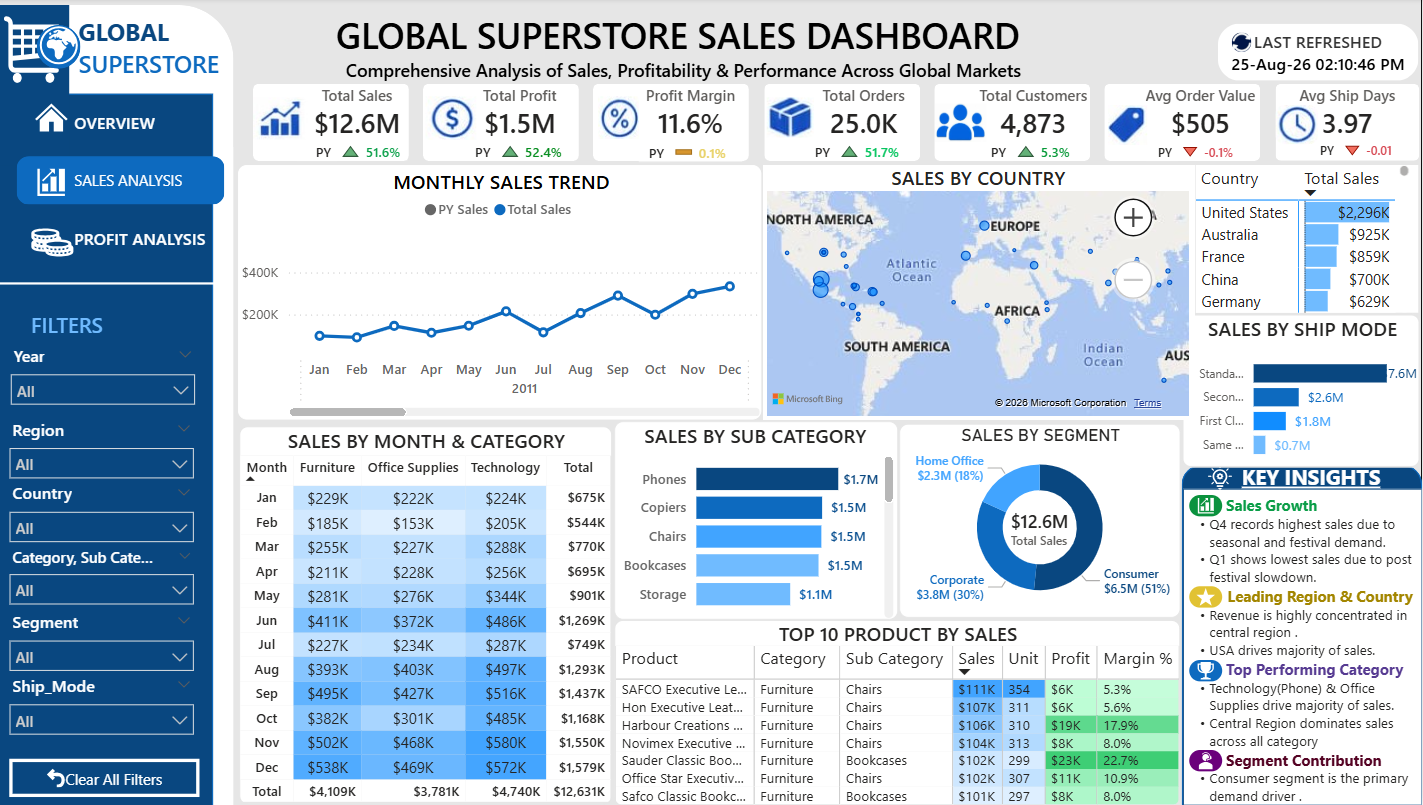

The page's visual inventory and layout, read from the dashboard file:
{"tool":"powerbi","page":{"name":"SALES ANALYSIS","canvas":[1280,720],"ordinal":1},"visuals":[{"type":"shape","box":[1064,413,216,313],"z":0},{"type":"actionButton","box":[10.2,676.1,171,34.4],"z":1000},{"type":"textbox","title":"---KEY INSIGHTS","box":[1065,435,215.3,285],"z":2000},{"type":"slicer","fields":{"Values":["Dim_Product.Category","Dim_Product.Sub_Category"]},"box":[0,479.5,185.9,60],"z":3000},{"type":"actionButton","box":[25.6,678,152.2,34.4],"z":4000},{"type":"slicer","fields":{"Values":["Dim_Geography.Region"]},"box":[0,364.5,185.9,60],"z":5000},{"type":"image","box":[1071.1,441,29.5,19.3],"z":6000},{"type":"slicer","fields":{"Values":["Dim_Ship.Ship_Mode"]},"box":[0,594.5,185.9,60],"z":7000},{"type":"slicer","fields":{"Values":["Dim_Customer.Segment"]},"box":[0,537,185.9,60],"z":8000},{"type":"image","box":[1071.1,523,29.5,19.3],"z":9000},{"type":"slicer","fields":{"Values":["Dim_Geography.Country"]},"box":[0,422,185.9,60],"z":10000},{"type":"slicer","fields":{"Values":["Dim_Product.Category","Dim_Product.Sub_Category"]},"box":[16.7,479,161.2,60],"z":11000},{"type":"slicer","fields":{"Values":["Dim_Date.Year"]},"box":[1.3,298,185.7,60],"z":12000},{"type":"image","box":[1071.1,589,29.5,19.3],"z":13000},{"type":"image","box":[1071.1,670,29.5,19.3],"z":14000},{"type":"slicer","fields":{"Values":["Dim_Geography.Region"]},"box":[16.7,364,161.2,60],"z":15000},{"type":"textbox","box":[1117.8,411.1,154.2,41.5],"z":16000},{"type":"shape","box":[35,18,39,39],"z":17000},{"type":"image","box":[1079,412,40,25],"z":18000},{"type":"slicer","fields":{"Values":["Dim_Ship.Ship_Mode"]},"box":[16.7,594,161.2,60],"z":19000},{"type":"slicer","fields":{"Values":["Dim_Customer.Segment"]},"box":[16.7,536.5,161.2,60],"z":20000},{"type":"shape","box":[246,103,36,29.1],"z":21000},{"type":"slicer","fields":{"Values":["Dim_Geography.Country"]},"box":[16.7,421.5,161.2,60],"z":22000},{"type":"image","box":[31.4,15.7,46,44],"z":23000},{"type":"shape","box":[382.2,71,140.2,69.4],"z":24000},{"type":"shape","box":[229,71,140.2,69.4],"z":25000},{"type":"shape","box":[570,100.2,36.8,34.5],"z":26000},{"type":"tableEx","fields":{"Values":["Temp_Table.Column1","_Measures.YoY Profit Growth %"]},"box":[422.6,101,92.7,40.7],"z":27000},{"type":"shape","box":[735,101,38,33.4],"z":28000},{"type":"shape","box":[535.3,71,140.2,69.4],"z":29000},{"type":"shape","box":[892.7,103.3,38.3,31.8],"z":30000},{"type":"shape","box":[688.5,71,140.2,69.4],"z":31000},{"type":"shape","box":[1055.3,105,39.5,34],"z":32000},{"type":"shape","box":[1148,71,129.2,69.2],"z":33000},{"type":"shape","box":[841.7,71,140.2,69.4],"z":34000},{"type":"tableEx","fields":{"Values":["Temp_Table.Column1","_Measures.YoY Sales Growth %"]},"box":[268.1,100.9,108.1,38.9],"z":35000},{"type":"shape","box":[994.8,71,140.2,69.4],"z":36000},{"type":"textbox","box":[572.1,95,39.9,46],"z":37000},{"type":"tableEx","fields":{"Values":["Temp_Table.Column1","_Measures.YoY AVG Ship Days"]},"box":[1176,100,90,39.2],"z":38000},{"type":"image","box":[734,101.4,39,31],"z":39000},{"type":"tableEx","fields":{"Values":["Temp_Table.Column1","_Measures.YoY Profit Margin"]},"box":[575,102,94.7,39.3],"z":40000},{"type":"image","box":[887,100,51,40],"z":41000},{"type":"tableEx","fields":{"Values":["Temp_Table.Column1","_Measures.YoY Orders"]},"box":[726,101,96,38.7],"z":42000},{"type":"image","box":[1053,106,45,31],"z":43000},{"type":"tableEx","fields":{"Values":["Temp_Table.Column1","_Measures.YoY Customers"]},"box":[882,101,100,39],"z":44000},{"type":"tableEx","fields":{"Values":["Temp_Table.Column1","_Measures.YoY AVG Order Value"]},"box":[1032,101,95,39.3],"z":45000},{"type":"shape","box":[15.7,0,196,847.1],"z":46000},{"type":"cardVisual","fields":{"Data":["_Measures.Total Sales"]},"box":[269.7,68,106,56.7],"z":47000},{"type":"shape","box":[0,80,193.3,767.8],"z":48000},{"type":"cardVisual","fields":{"Data":["_Measures.Average Ship Days"]},"box":[1155.6,68,113.1,56.9],"z":49000},{"type":"cardVisual","fields":{"Data":["_Measures.Profit Margin %"]},"box":[567,68,111,56.8],"z":50000},{"type":"textbox","box":[25,270.2,152.9,37.5],"z":51000},{"type":"cardVisual","fields":{"Data":["_Measures.Total Orders"]},"box":[728,68,100.7,56.7],"z":52000},{"type":"cardVisual","fields":{"Data":["_Measures.Total Customers"]},"box":[868,68,124,56.7],"z":53000},{"type":"cardVisual","fields":{"Data":["_Measures.Average Order Value"]},"box":[1016,68,130.7,56.7],"z":54000},{"type":"cardVisual","fields":{"Data":["_Measures.Total Profit"]},"box":[410,68,118.8,56.8],"z":55000},{"type":"image","box":[229.7,83.1,48.7,37.4],"z":56000},{"type":"image","box":[384,82.4,45.9,38.9],"z":57000},{"type":"image","box":[539,82.5,37.1,38.7],"z":58000},{"type":"image","box":[691,83.7,42,36],"z":59000},{"type":"image","box":[843,88.5,45.2,34.3],"z":60000},{"type":"image","box":[998,90,35.5,36],"z":61000},{"type":"image","box":[1148,90,38.5,35],"z":62000},{"type":"shape","box":[0,0,64,144],"z":63000},{"type":"image","box":[0,0,64.3,80],"z":64000},{"type":"textbox","box":[299,0,646,80],"z":65000},{"type":"textbox","box":[67,5,148.7,80],"z":66000},{"type":"shape","box":[16.7,135.6,186.7,43.3],"z":67000},{"type":"pageNavigator","box":[69,84.4,167.8,148.9],"z":68000},{"type":"image","box":[0,196.7,95.6,33.3],"z":69000},{"type":"image","box":[0,84.4,95.6,33.3],"z":70000},{"type":"image","box":[0,142.2,95.6,33.3],"z":71000},{"type":"shape","box":[0,246.5,194.4,8.5],"z":72000},{"type":"pageNavigator","box":[0,83.6,194.5,149.1],"z":73000},{"type":"lineChart","title":"MONTHLY SALES TREND","fields":{"Category":["Dim_Date.Order_Date.Variation.Date Hierarchy.Year","Dim_Date.Month"],"Y":["_Measures.PY Sales","_Measures.Total Sales"]},"box":[216,144,470,229],"z":74000},{"type":"pivotTable","title":"SALES BY MONTH & CATEGORY","fields":{"Values":["_Measures.Total Sales"],"Columns":["Dim_Product.Category"],"Rows":["Dim_Date.Month"]},"box":[217,379,335,340],"z":75000},{"type":"clusteredBarChart","title":"SALES BY SUB CATEGORY","fields":{"Y":["Sum(Fact_Sales.Sales)"],"Category":["Dim_Product.Sub_Category"]},"box":[554,374,255,178],"z":76000},{"type":"tableEx","title":"TOP 10 PRODUCT BY SALES ","fields":{"Values":["Dim_Product.Product_Name","Dim_Product.Category","Dim_Product.Sub_Category","_Measures.Total Sales","_Measures.Total Quantity","_Measures.Total Profit","_Measures.Profit Margin %"]},"box":[554,553,509,167],"z":77000},{"type":"donutChart","title":"SALES BY SEGMENT","fields":{"Y":["_Measures.Total Sales"],"Category":["Dim_Customer.Segment"]},"box":[810,376,253,174],"z":78000},{"type":"clusteredBarChart","title":"SALES BY SHIP MODE","fields":{"Category":["Dim_Ship.Ship_Mode"],"Y":["_Measures.Total Sales"]},"box":[1064,277,214,138],"z":79000},{"type":"cardVisual","fields":{"Data":["_Measures.Total Sales"]},"box":[893,434,96,73],"z":80000},{"type":"actionButton","box":[10.2,678.1,171,34.4],"z":81000},{"type":"slicer","fields":{"Values":["Dim_Product.Category","Dim_Product.Sub_Category"]},"box":[0,481.5,185.9,60],"z":82000},{"type":"slicer","fields":{"Values":["Dim_Geography.Region"]},"box":[0,366.5,185.9,60],"z":83000},{"type":"slicer","fields":{"Values":["Dim_Ship.Ship_Mode"]},"box":[0,596.5,185.9,60],"z":84000},{"type":"slicer","fields":{"Values":["Dim_Customer.Segment"]},"box":[0,539,185.9,60],"z":85000},{"type":"slicer","fields":{"Values":["Dim_Geography.Country"]},"box":[0,424,185.9,60],"z":86000},{"type":"slicer","fields":{"Values":["Dim_Date.Year"]},"box":[1.3,300,185.7,60],"z":87000},{"type":"map","title":"SALES BY COUNTRY","fields":{"Category":["Dim_Geography.Country"],"Size":["_Measures.Total Sales"]},"box":[688,144,388,229],"z":88000},{"type":"pivotTable","title":"SALES BY MONTH & CATEGORY","fields":{"Values":["_Measures.Total Sales"],"Rows":["Dim_Geography.Country"]},"box":[1076,144,200,133],"z":89000},{"type":"shape","box":[35,17.9,39.3,39.3],"z":90000},{"type":"image","box":[31.7,15,46.1,43.2],"z":91000},{"type":"cardVisual","fields":{"Data":["Max(Last Refresh.Last Refresh)"]},"box":[1096.7,16.7,184,51.1],"z":92000},{"type":"image","box":[1108.9,24.4,17.8,17.8],"z":93000}]}

Visuals, with their boxes in screenshot pixels (x1, y1, x2, y2), scaled from the page's 1280x720 canvas onto the 1423x805 screenshot:
shape: pyautogui.locateOnScreen(1183, 462, 1422, 804)
actionButton: pyautogui.locateOnScreen(11, 756, 201, 794)
"---KEY INSIGHTS" textbox: pyautogui.locateOnScreen(1184, 486, 1422, 804)
slicer - Dim_Product.Category x Dim_Product.Sub_Category: pyautogui.locateOnScreen(0, 536, 207, 603)
actionButton: pyautogui.locateOnScreen(28, 758, 198, 797)
slicer - Dim_Geography.Region: pyautogui.locateOnScreen(0, 408, 207, 475)
image: pyautogui.locateOnScreen(1191, 493, 1224, 515)
slicer - Dim_Ship.Ship_Mode: pyautogui.locateOnScreen(0, 665, 207, 732)
slicer - Dim_Customer.Segment: pyautogui.locateOnScreen(0, 600, 207, 667)
image: pyautogui.locateOnScreen(1191, 585, 1224, 606)
slicer - Dim_Geography.Country: pyautogui.locateOnScreen(0, 472, 207, 539)
slicer - Dim_Product.Category x Dim_Product.Sub_Category: pyautogui.locateOnScreen(19, 536, 198, 603)
slicer - Dim_Date.Year: pyautogui.locateOnScreen(1, 333, 208, 400)
image: pyautogui.locateOnScreen(1191, 659, 1224, 680)
image: pyautogui.locateOnScreen(1191, 749, 1224, 771)
slicer - Dim_Geography.Region: pyautogui.locateOnScreen(19, 407, 198, 474)
textbox: pyautogui.locateOnScreen(1243, 460, 1414, 506)
shape: pyautogui.locateOnScreen(39, 20, 82, 64)
image: pyautogui.locateOnScreen(1200, 461, 1244, 489)
slicer - Dim_Ship.Ship_Mode: pyautogui.locateOnScreen(19, 664, 198, 731)
slicer - Dim_Customer.Segment: pyautogui.locateOnScreen(19, 600, 198, 667)
shape: pyautogui.locateOnScreen(273, 115, 314, 148)
slicer - Dim_Geography.Country: pyautogui.locateOnScreen(19, 471, 198, 538)
image: pyautogui.locateOnScreen(35, 18, 86, 67)
shape: pyautogui.locateOnScreen(425, 79, 581, 157)
shape: pyautogui.locateOnScreen(255, 79, 410, 157)
shape: pyautogui.locateOnScreen(634, 112, 675, 151)
tableEx - Temp_Table.Column1 x _Measures.YoY Profit Growth %: pyautogui.locateOnScreen(470, 113, 573, 158)
shape: pyautogui.locateOnScreen(817, 113, 859, 150)
shape: pyautogui.locateOnScreen(595, 79, 751, 157)
shape: pyautogui.locateOnScreen(992, 115, 1035, 151)
shape: pyautogui.locateOnScreen(765, 79, 921, 157)
shape: pyautogui.locateOnScreen(1173, 117, 1217, 155)
shape: pyautogui.locateOnScreen(1276, 79, 1420, 157)
shape: pyautogui.locateOnScreen(936, 79, 1092, 157)
tableEx - Temp_Table.Column1 x _Measures.YoY Sales Growth %: pyautogui.locateOnScreen(298, 113, 418, 156)
shape: pyautogui.locateOnScreen(1106, 79, 1262, 157)
textbox: pyautogui.locateOnScreen(636, 106, 680, 158)
tableEx - Temp_Table.Column1 x _Measures.YoY AVG Ship Days: pyautogui.locateOnScreen(1307, 112, 1407, 156)
image: pyautogui.locateOnScreen(816, 113, 859, 148)
tableEx - Temp_Table.Column1 x _Measures.YoY Profit Margin: pyautogui.locateOnScreen(639, 114, 745, 158)
image: pyautogui.locateOnScreen(986, 112, 1043, 157)
tableEx - Temp_Table.Column1 x _Measures.YoY Orders: pyautogui.locateOnScreen(807, 113, 914, 156)
image: pyautogui.locateOnScreen(1171, 119, 1221, 153)
tableEx - Temp_Table.Column1 x _Measures.YoY Customers: pyautogui.locateOnScreen(981, 113, 1092, 157)
tableEx - Temp_Table.Column1 x _Measures.YoY AVG Order Value: pyautogui.locateOnScreen(1147, 113, 1253, 157)
shape: pyautogui.locateOnScreen(17, 0, 235, 804)
cardVisual - _Measures.Total Sales: pyautogui.locateOnScreen(300, 76, 418, 139)
shape: pyautogui.locateOnScreen(0, 89, 215, 804)
cardVisual - _Measures.Average Ship Days: pyautogui.locateOnScreen(1285, 76, 1410, 140)
cardVisual - _Measures.Profit Margin %: pyautogui.locateOnScreen(630, 76, 754, 140)
textbox: pyautogui.locateOnScreen(28, 302, 198, 344)
cardVisual - _Measures.Total Orders: pyautogui.locateOnScreen(809, 76, 921, 139)
cardVisual - _Measures.Total Customers: pyautogui.locateOnScreen(965, 76, 1103, 139)
cardVisual - _Measures.Average Order Value: pyautogui.locateOnScreen(1130, 76, 1275, 139)
cardVisual - _Measures.Total Profit: pyautogui.locateOnScreen(456, 76, 588, 140)
image: pyautogui.locateOnScreen(255, 93, 310, 135)
image: pyautogui.locateOnScreen(427, 92, 478, 136)
image: pyautogui.locateOnScreen(599, 92, 640, 136)
image: pyautogui.locateOnScreen(768, 94, 815, 134)
image: pyautogui.locateOnScreen(937, 99, 987, 137)
image: pyautogui.locateOnScreen(1109, 101, 1149, 141)
image: pyautogui.locateOnScreen(1276, 101, 1319, 140)
shape: pyautogui.locateOnScreen(0, 0, 71, 161)
image: pyautogui.locateOnScreen(0, 0, 71, 89)
textbox: pyautogui.locateOnScreen(332, 0, 1051, 89)
textbox: pyautogui.locateOnScreen(74, 6, 240, 95)
shape: pyautogui.locateOnScreen(19, 152, 226, 200)
pageNavigator: pyautogui.locateOnScreen(77, 94, 263, 261)
image: pyautogui.locateOnScreen(0, 220, 106, 257)
image: pyautogui.locateOnScreen(0, 94, 106, 132)
image: pyautogui.locateOnScreen(0, 159, 106, 196)
shape: pyautogui.locateOnScreen(0, 276, 216, 285)
pageNavigator: pyautogui.locateOnScreen(0, 93, 216, 260)
"MONTHLY SALES TREND" lineChart: pyautogui.locateOnScreen(240, 161, 763, 417)
"SALES BY MONTH & CATEGORY" pivotTable: pyautogui.locateOnScreen(241, 424, 614, 804)
"SALES BY SUB CATEGORY" clusteredBarChart: pyautogui.locateOnScreen(616, 418, 899, 617)
"TOP 10 PRODUCT BY SALES " tableEx: pyautogui.locateOnScreen(616, 618, 1182, 804)
"SALES BY SEGMENT" donutChart: pyautogui.locateOnScreen(900, 420, 1182, 615)
"SALES BY SHIP MODE" clusteredBarChart: pyautogui.locateOnScreen(1183, 310, 1421, 464)
cardVisual - _Measures.Total Sales: pyautogui.locateOnScreen(993, 485, 1099, 567)
actionButton: pyautogui.locateOnScreen(11, 758, 201, 797)
slicer - Dim_Product.Category x Dim_Product.Sub_Category: pyautogui.locateOnScreen(0, 538, 207, 605)
slicer - Dim_Geography.Region: pyautogui.locateOnScreen(0, 410, 207, 477)
slicer - Dim_Ship.Ship_Mode: pyautogui.locateOnScreen(0, 667, 207, 734)
slicer - Dim_Customer.Segment: pyautogui.locateOnScreen(0, 603, 207, 670)
slicer - Dim_Geography.Country: pyautogui.locateOnScreen(0, 474, 207, 541)
slicer - Dim_Date.Year: pyautogui.locateOnScreen(1, 335, 208, 402)
"SALES BY COUNTRY" map: pyautogui.locateOnScreen(765, 161, 1196, 417)
"SALES BY MONTH & CATEGORY" pivotTable: pyautogui.locateOnScreen(1196, 161, 1419, 310)
shape: pyautogui.locateOnScreen(39, 20, 83, 64)
image: pyautogui.locateOnScreen(35, 17, 86, 65)
cardVisual - Max(Last Refresh.Last Refresh): pyautogui.locateOnScreen(1219, 19, 1422, 76)
image: pyautogui.locateOnScreen(1233, 27, 1253, 47)
